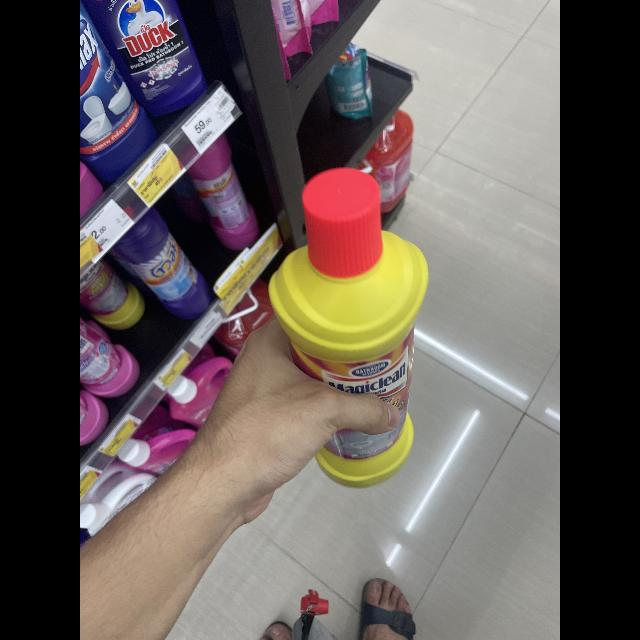chemical_plastic_bottle: (264, 164, 426, 492)
